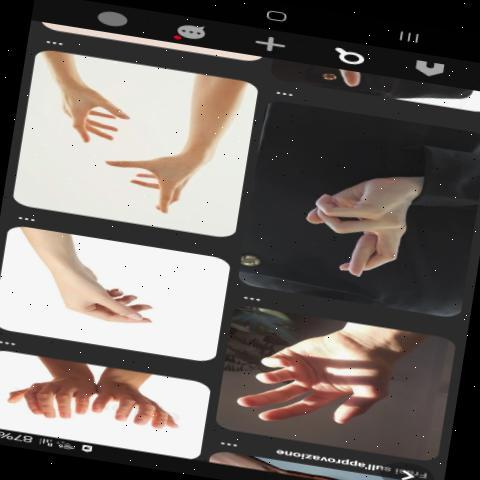Hands: (229, 303, 403, 460), (277, 149, 435, 292), (40, 249, 181, 354), (102, 134, 216, 227), (39, 59, 147, 155), (89, 366, 183, 454), (5, 365, 100, 452)
